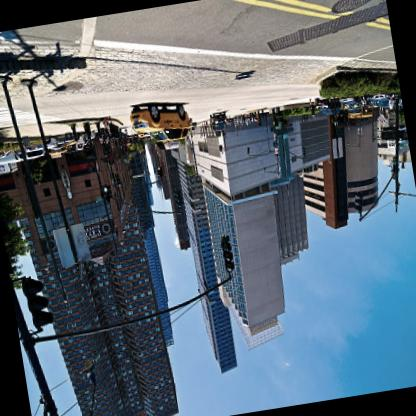manholes: (322, 0, 380, 21)
